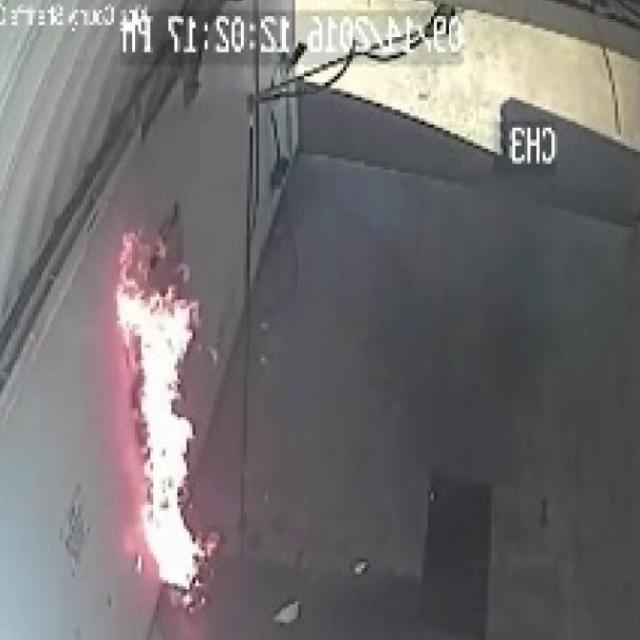smoke: (113, 230, 210, 590)
